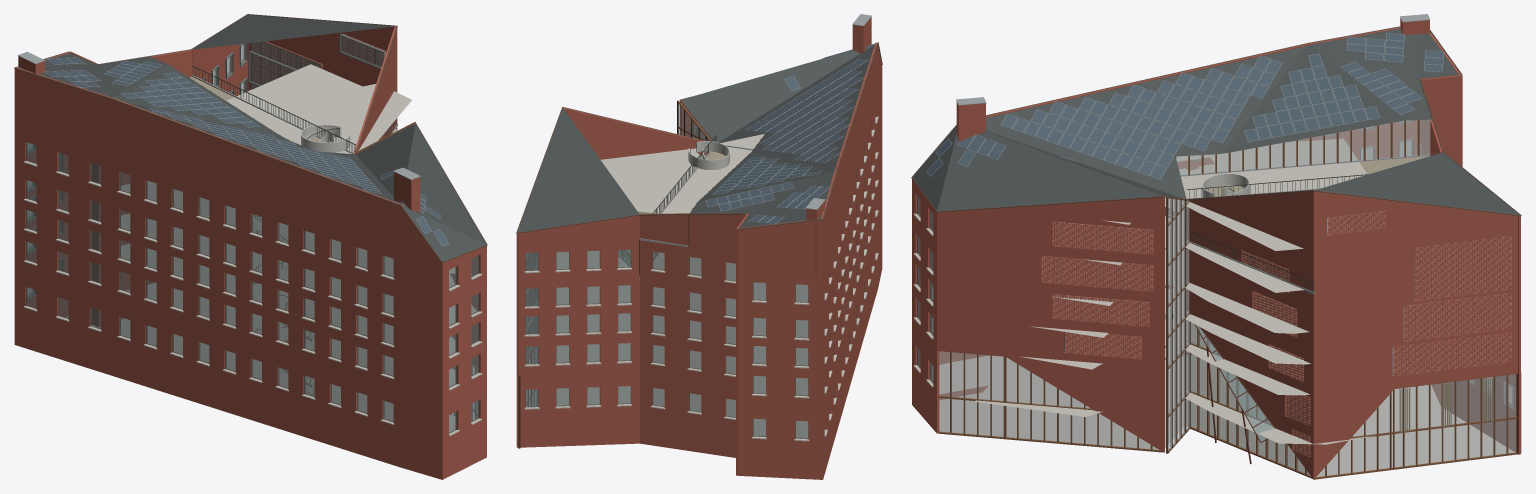
Rendered from saw-exterior-f03ea5fb0fb5.glb.
3 renders of one model, left to right at view 1: azimuth 30°, elevation 25°; view 2: azimuth 150°, elevation 25°; view 3: azimuth 270°, elevation 25°, orthographic. The views are drawn at different scales.
Parts seen in each view (by area): view 1: SAW.001; view 2: SAW.001; view 3: SAW.001.
Boxes of the visible parts, box(x1,y1,x2,y2) form: SAW.001: box(14, 14, 487, 479); SAW.001: box(516, 14, 882, 479); SAW.001: box(911, 14, 1521, 479).
Size of the model in its own units: 34.92 by 29.04 by 53.36.
